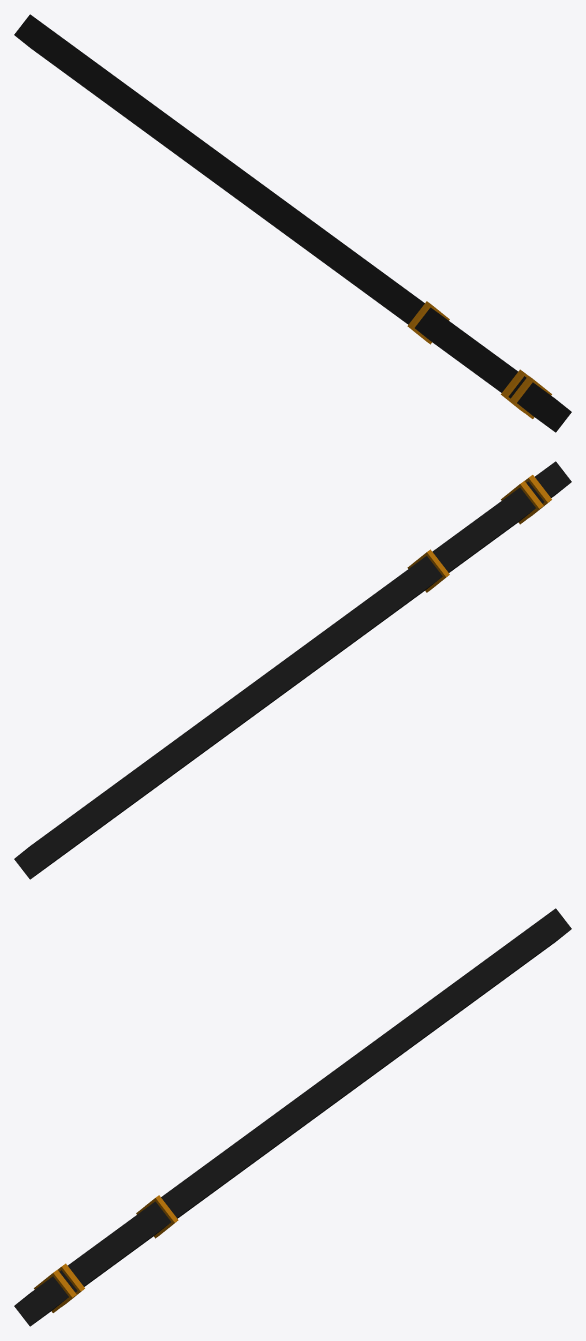
The model's file is Pipe Straight Long.fbx.
3 renders of one model, top to bottom at view 1: azimuth 30°, elevation 25°; view 2: azimuth 150°, elevation 25°; view 3: azimuth 330°, elevation 25°, orthographic.
Visible parts, largest first — view 1: Pipe Straight Long; view 2: Pipe Straight Long; view 3: Pipe Straight Long.
Part boxes in pixels (x1,y1,x2,y2): Pipe Straight Long: [14, 14, 571, 432]; Pipe Straight Long: [14, 461, 571, 879]; Pipe Straight Long: [14, 908, 571, 1326].
Bounding box in the file's own units: 34.25 × 34.25 × 800.
